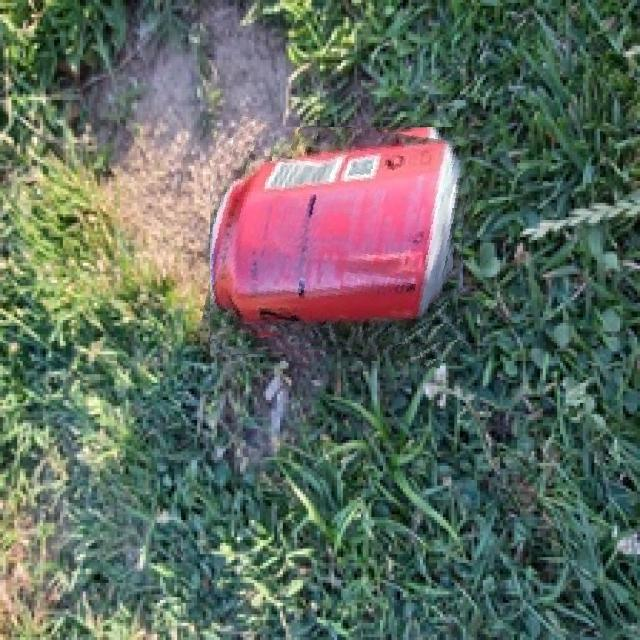recyclable: (210, 127, 471, 358)
